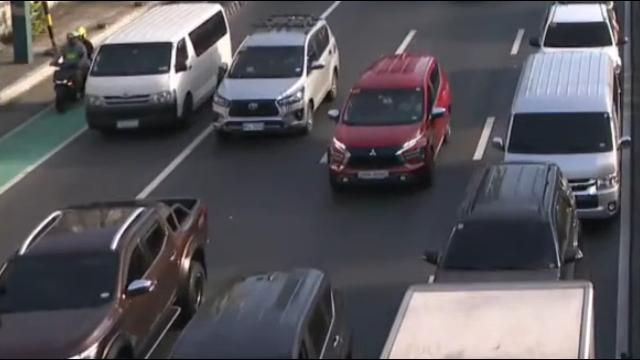car: (196, 6, 344, 153), (321, 48, 461, 200), (421, 158, 584, 288), (158, 262, 363, 360), (534, 1, 629, 62)
motorcycle: (49, 27, 95, 111)
pickup-truck: (0, 196, 211, 360)
van: (492, 43, 632, 232), (82, 0, 233, 140)
